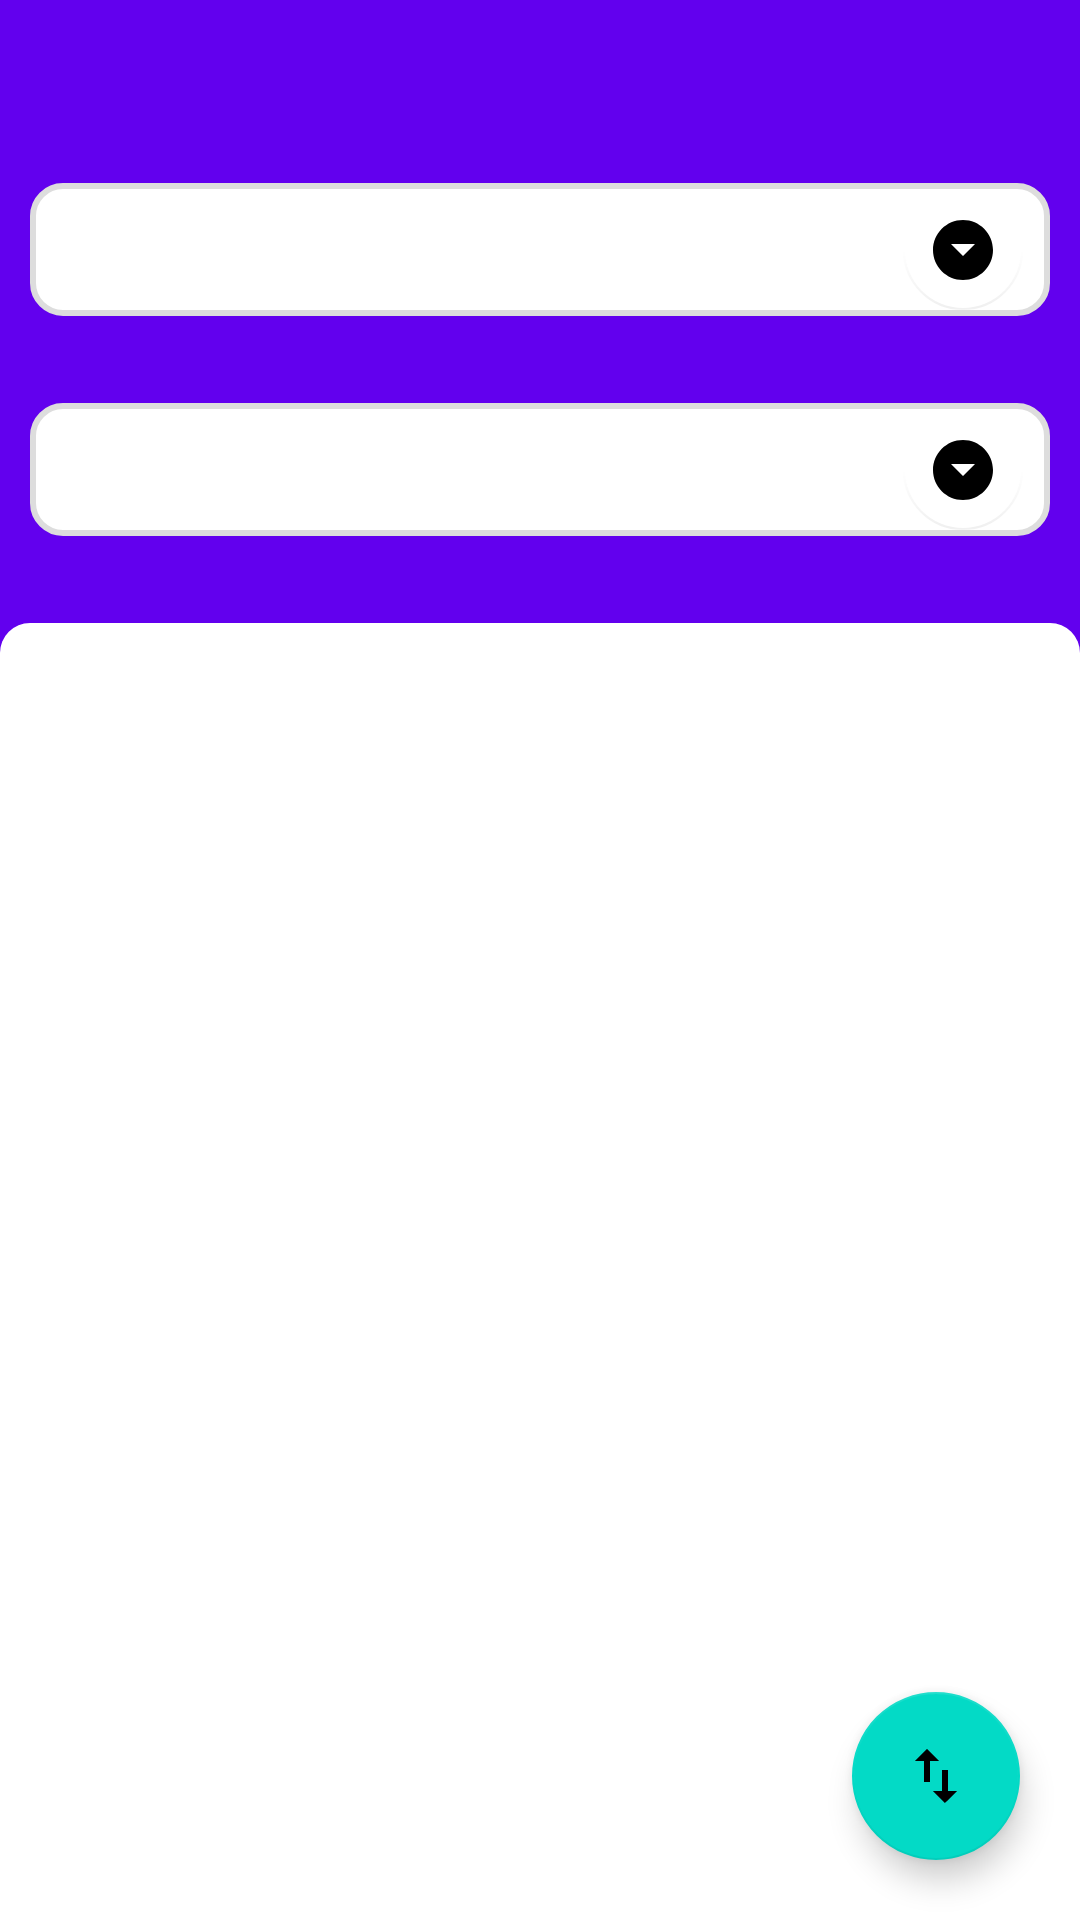

Named icons in this screenshot (1080x1920) and their centers, (x=x, y=y):
swap vert: (x=936, y=1776)
